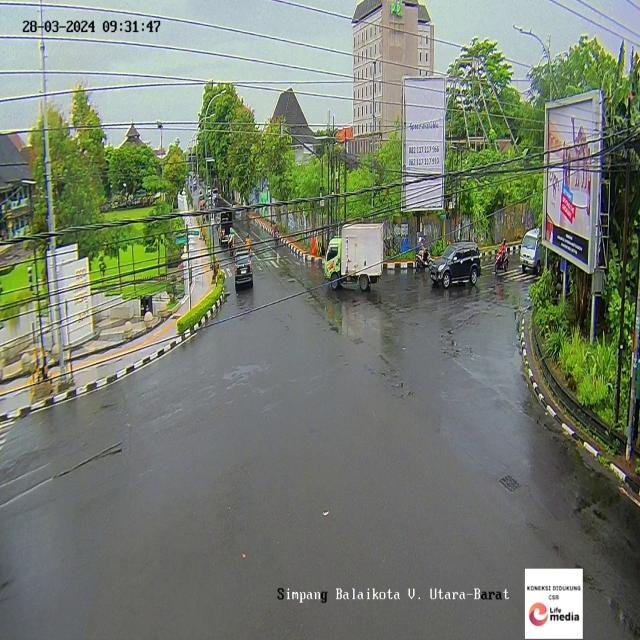car: (430, 244, 481, 292), (519, 228, 541, 273), (231, 250, 253, 292)
motorcycle: (493, 237, 510, 277), (418, 237, 430, 271), (273, 222, 279, 250)
truck: (324, 220, 384, 286), (216, 206, 234, 245)
